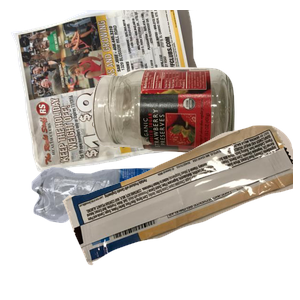glass: (89, 65, 300, 212)
paper: (10, 10, 210, 175)
plastic: (29, 165, 227, 300)
trash: (60, 123, 300, 300)
